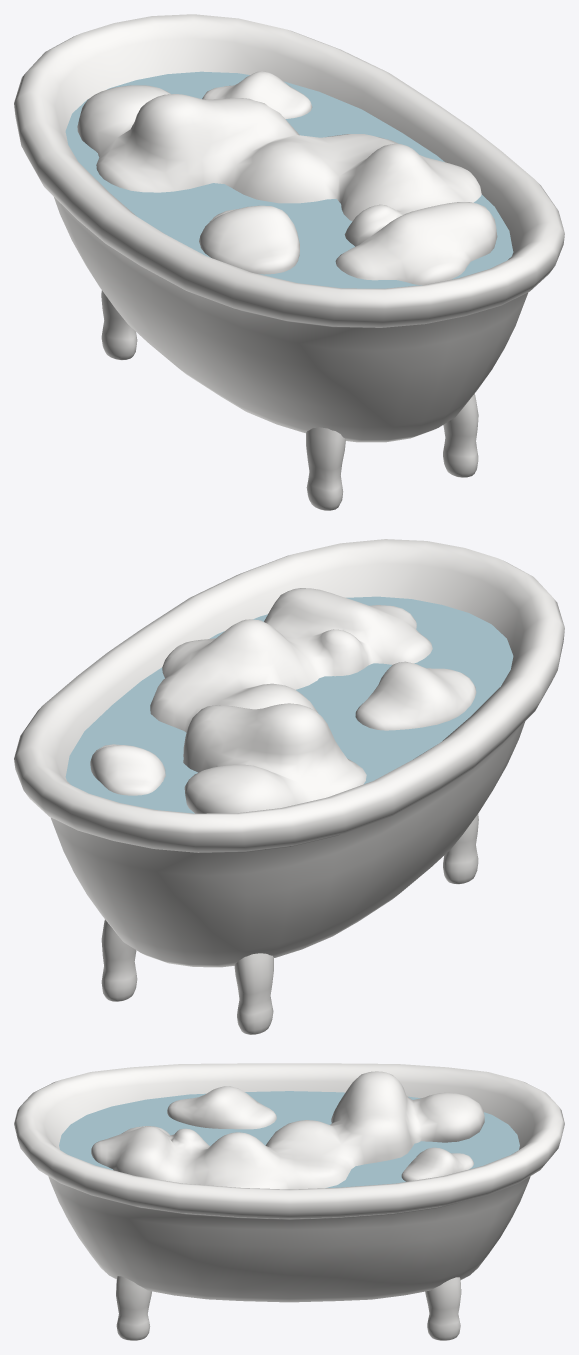
The model's file is Bath_1.glb.
3 views of the same model, one above another, from view 1: azimuth 30°, elevation 25°; view 2: azimuth 150°, elevation 25°; view 3: azimuth 270°, elevation 25° (orthographic). The views are drawn at different scales.
Parts seen in each view (by area): view 1: Bath_1; view 2: Bath_1; view 3: Bath_1.
Part boxes in pixels (x1,y1,x2,y2): Bath_1: [14, 14, 564, 510]; Bath_1: [14, 539, 564, 1034]; Bath_1: [14, 1063, 564, 1340].
Size of the model in its own units: 1.63 by 1.19 by 2.74.
Materials: 1 (1 with a texture image).
